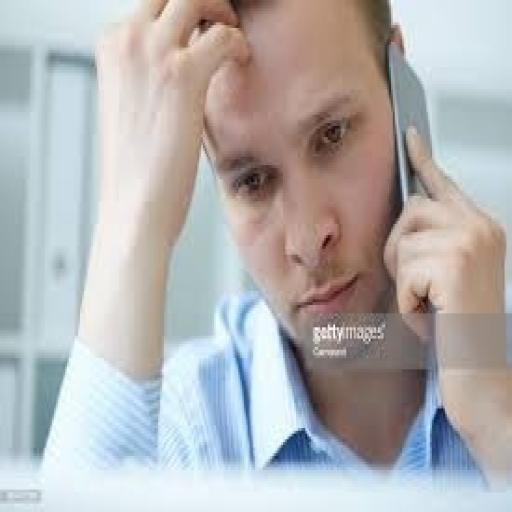texting: (37, 0, 510, 498)
